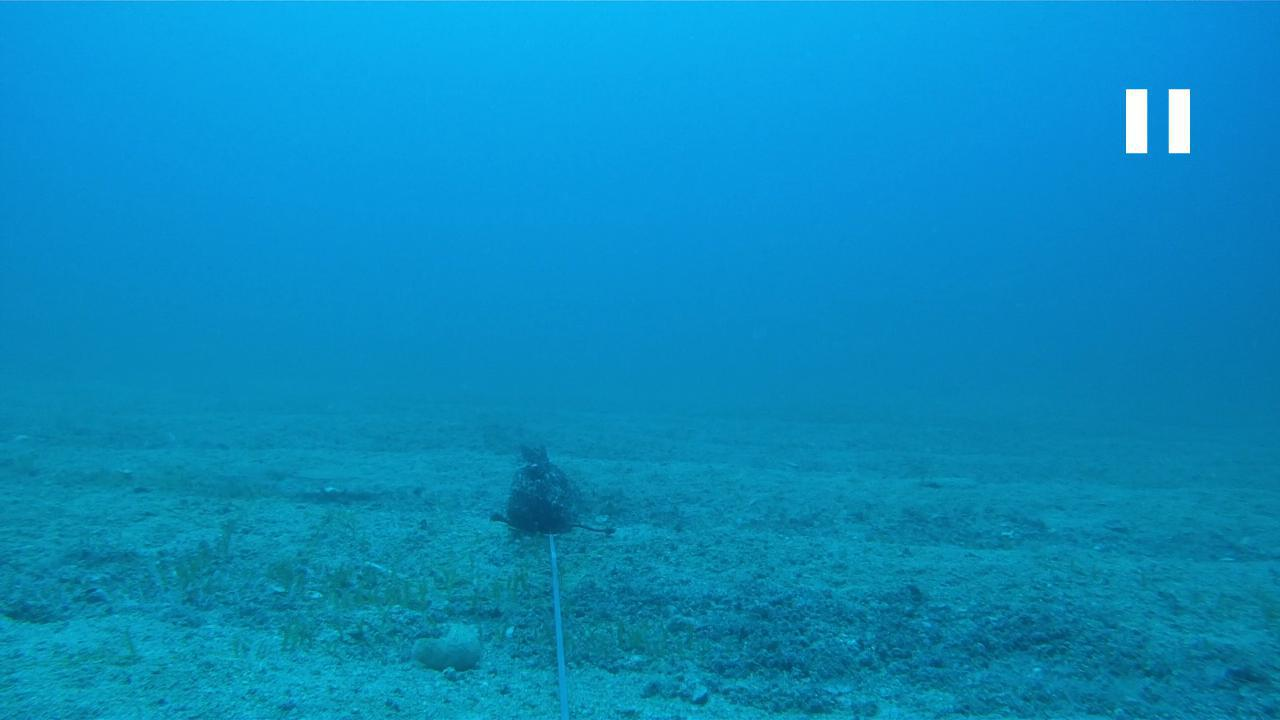bothus: (285, 460, 376, 488)
